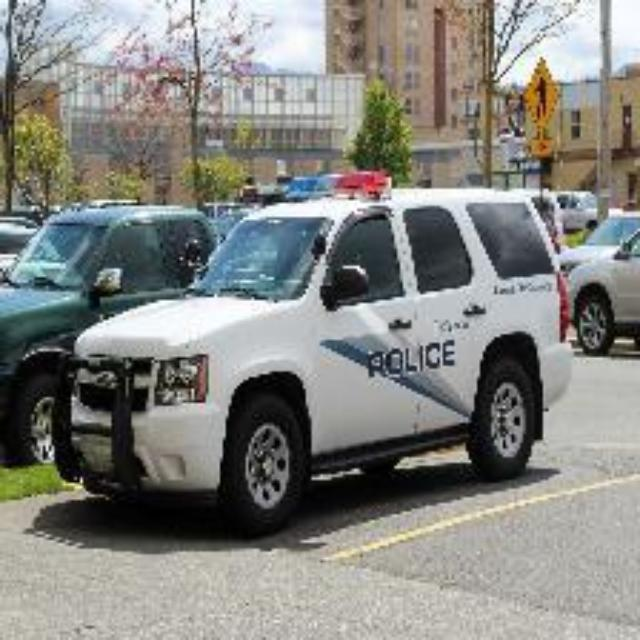emergency: (72, 173, 574, 515), (560, 213, 640, 341)
